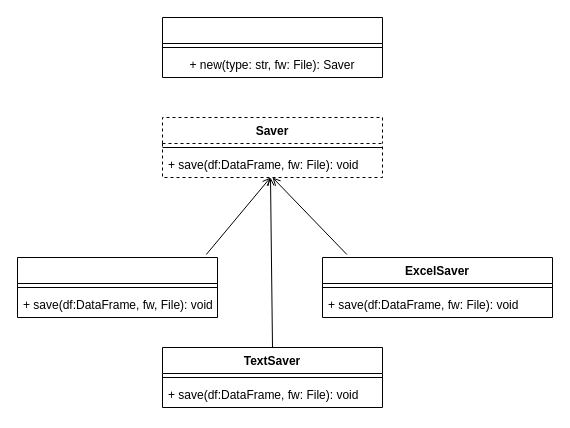
Some shapes in this 570 by 428 pixel diagram are drawn without their labels. The box of each missing label's shape, as (x1, y1, x2, y2) in pixels:
PDFSaver: (16, 256, 218, 318)
SaverFactory: (162, 16, 382, 78)
